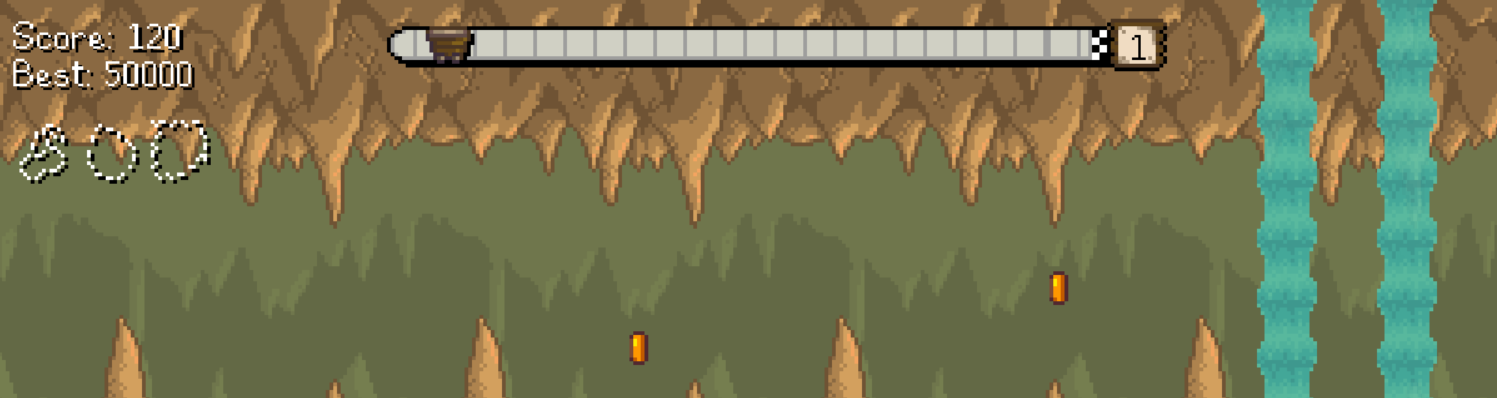coins: (1049, 271, 1069, 304), (630, 331, 648, 364)
score: (125, 16, 186, 55)
